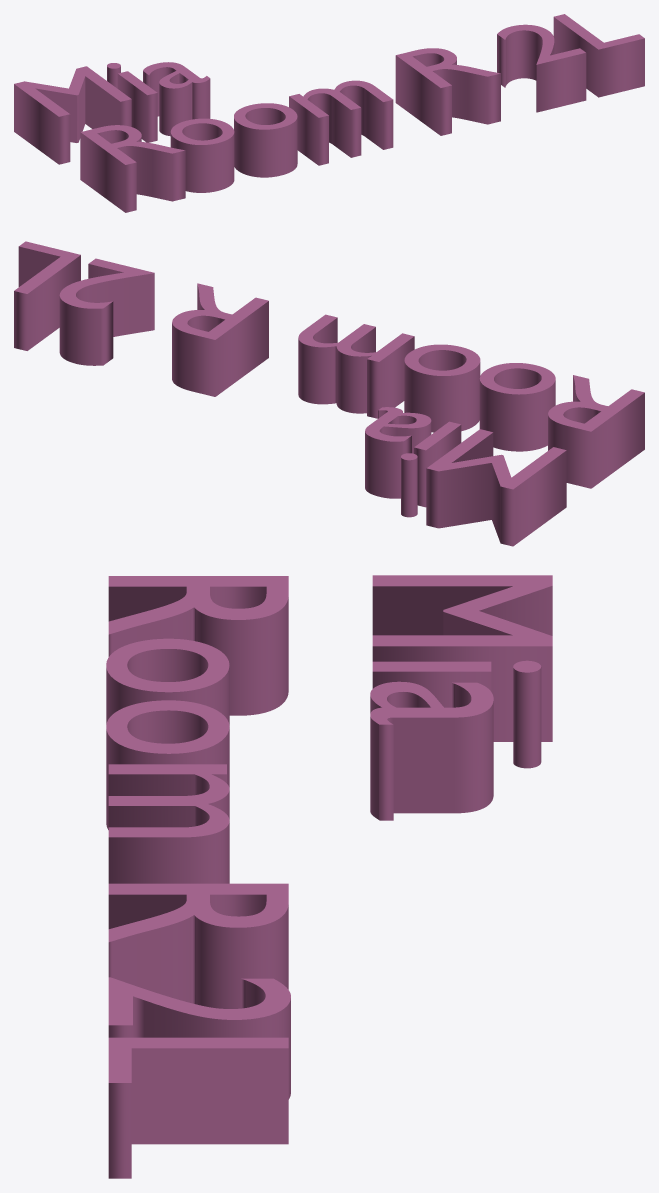
Rendered from Mia-R 2L.gltf.
The picture shows the model from 3 angles, top to bottom: view 1: azimuth 30°, elevation 25°; view 2: azimuth 150°, elevation 25°; view 3: azimuth 270°, elevation 25°; orthographic projection. The views are drawn at different scales.
Parts seen in each view (by area): view 1: Text; view 2: Text; view 3: Text.
Boxes of the visible parts, x1,y1,x2,y2 form: Text: (14, 14, 644, 212); Text: (14, 241, 644, 546); Text: (106, 575, 552, 1178).
Bounding box in the file's own units: 4.55 × 0.4 × 1.69.
